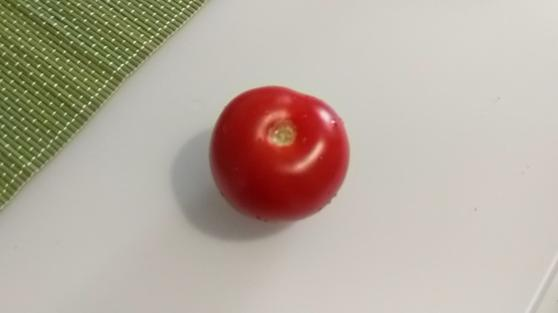tomato: (209, 83, 357, 223)
